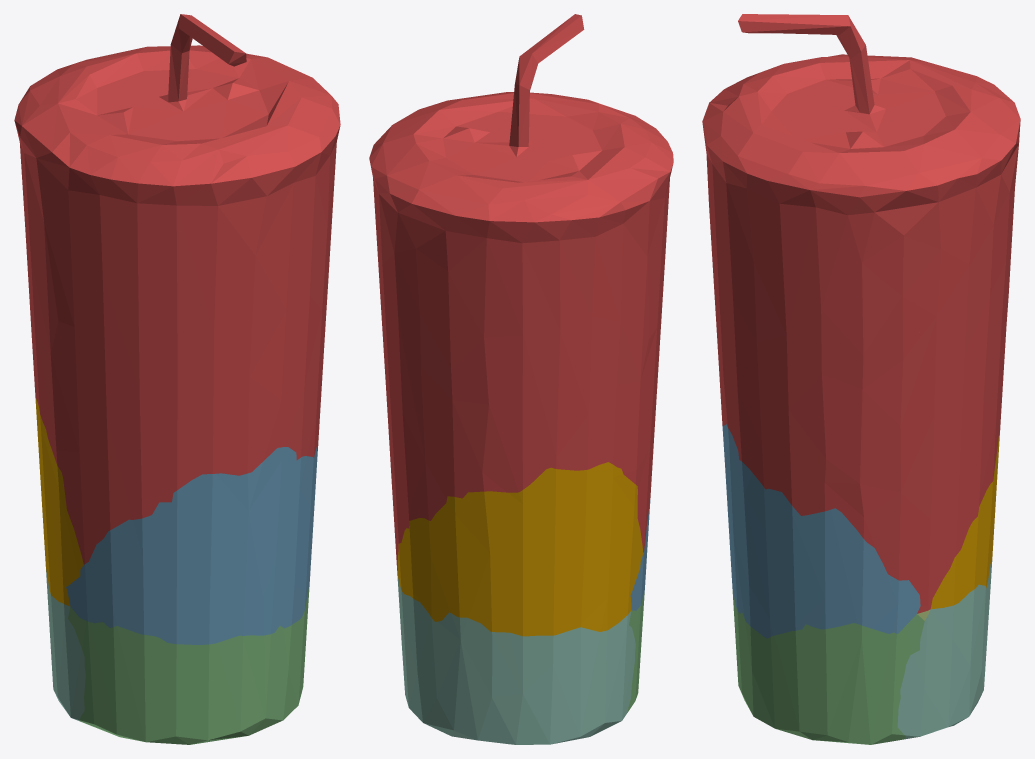
The model's file is fractured_32_6pcs.glb.
3 views of the same model, side by side, from view 1: azimuth 30°, elevation 25°; view 2: azimuth 150°, elevation 25°; view 3: azimuth 270°, elevation 25° (orthographic). The views are drawn at different scales.
Parts seen in each view (by area): view 1: piece_1.obj, piece_2.obj, piece_3.obj, piece_0.obj, piece_4.obj; view 2: piece_1.obj, piece_0.obj, piece_4.obj, piece_3.obj, piece_2.obj; view 3: piece_1.obj, piece_2.obj, piece_3.obj, piece_4.obj, piece_0.obj.
Boxes of the visible parts, x1,y1,x2,y2 form: piece_1.obj: [14, 14, 340, 564]; piece_2.obj: [66, 447, 317, 644]; piece_3.obj: [68, 584, 309, 744]; piece_0.obj: [35, 397, 83, 606]; piece_4.obj: [46, 569, 85, 721]; piece_1.obj: [369, 14, 673, 574]; piece_0.obj: [397, 462, 643, 636]; piece_4.obj: [397, 576, 635, 744]; piece_3.obj: [627, 592, 644, 712]; piece_2.obj: [630, 500, 650, 610]; piece_1.obj: [702, 14, 1020, 613]; piece_2.obj: [722, 424, 920, 638]; piece_3.obj: [732, 591, 924, 744]; piece_4.obj: [897, 561, 992, 739]; piece_0.obj: [930, 432, 999, 609].
Bounding box in the file's own units: 0.4212 × 1 × 0.4216.
